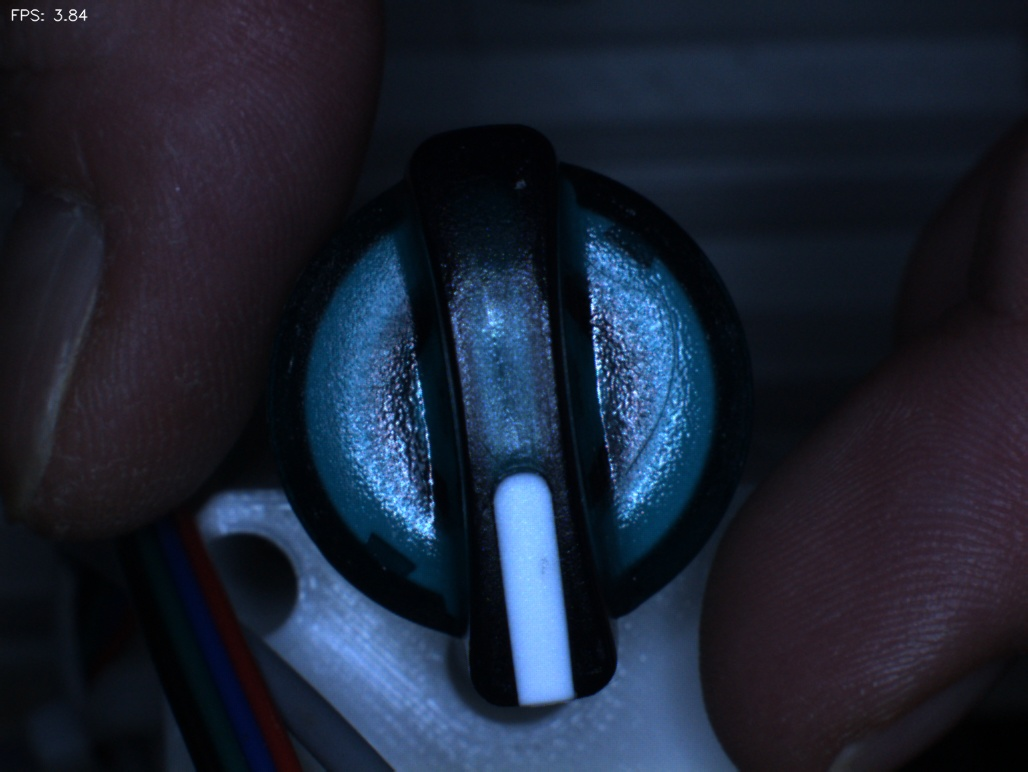PointNoir: (509, 521, 576, 610)
